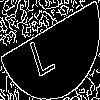L: (25, 25, 56, 78)
